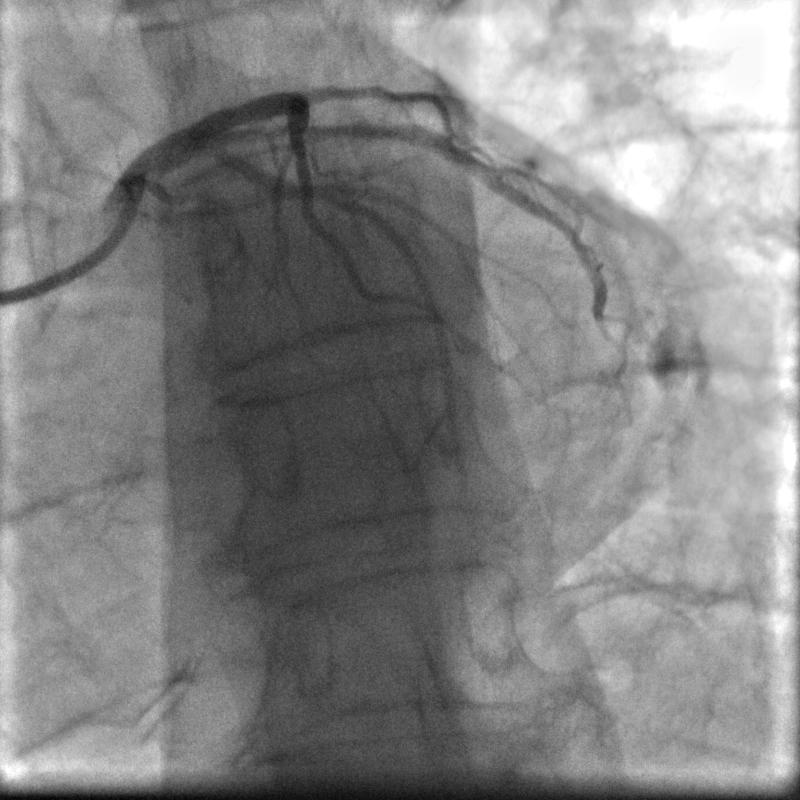Stenosis: (287, 127, 317, 178)
